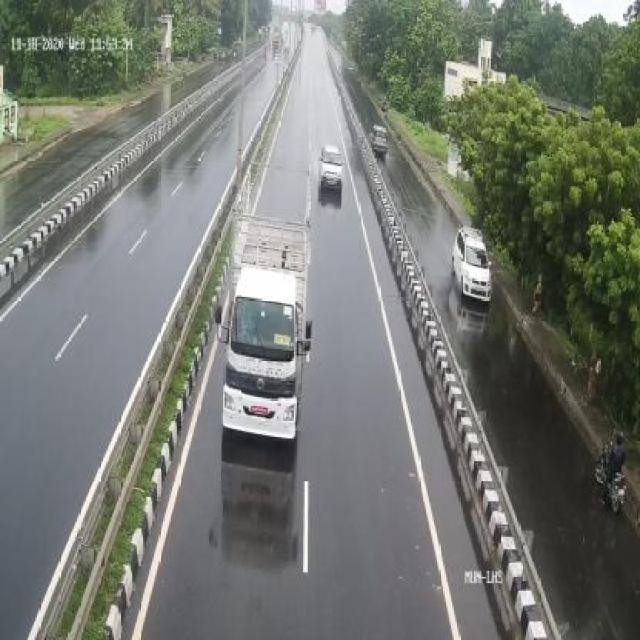car: (454, 223, 495, 315), (590, 428, 628, 506), (317, 133, 348, 204), (366, 120, 391, 157)
